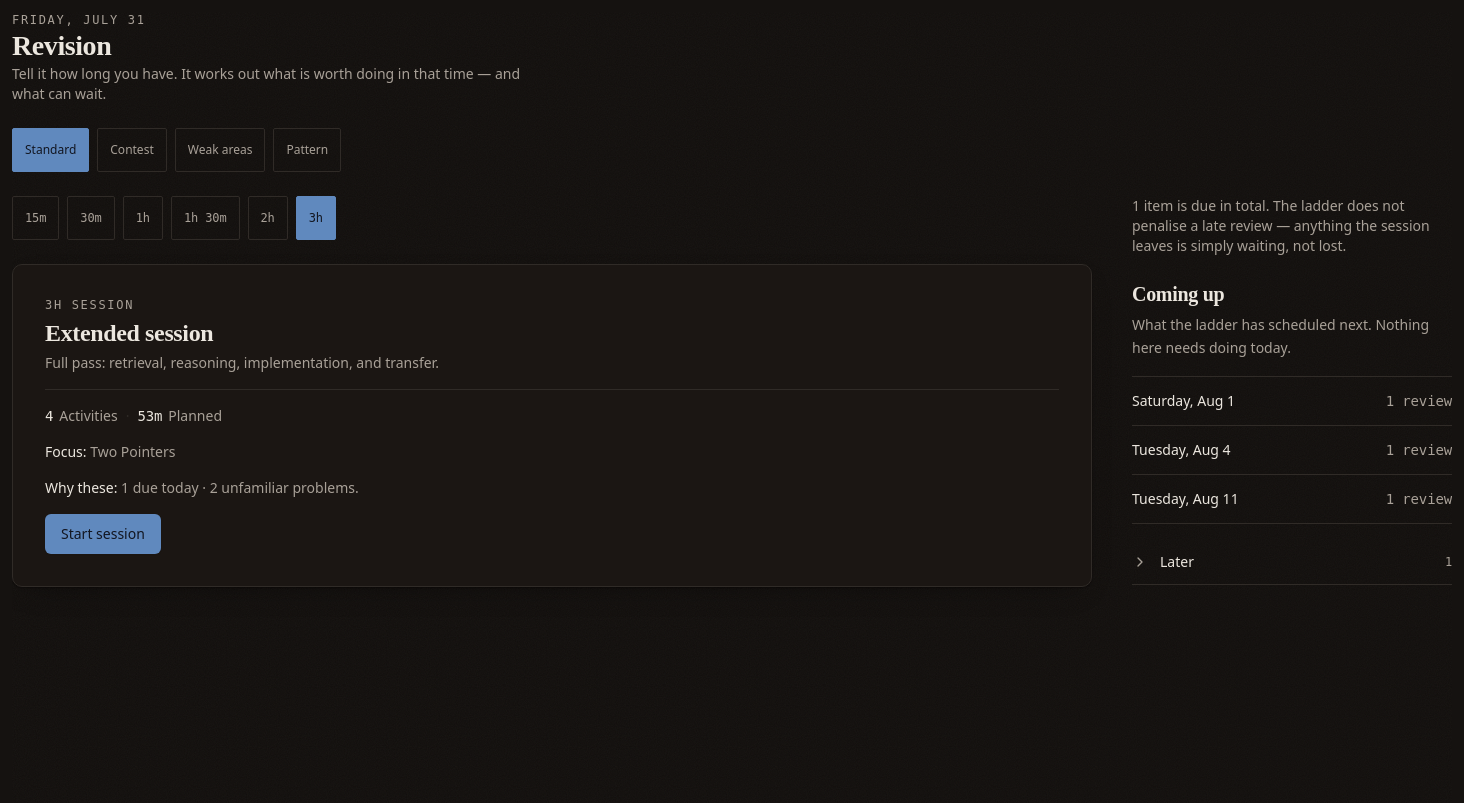
Test: RevisionPage — running a session › progress is reported in minutes as well as in activities
What coordinates should you click on to do the following:
click the button "Start session"
I would click on:
 (103, 534)
Its box is left=45, top=514, right=161, bottom=554.
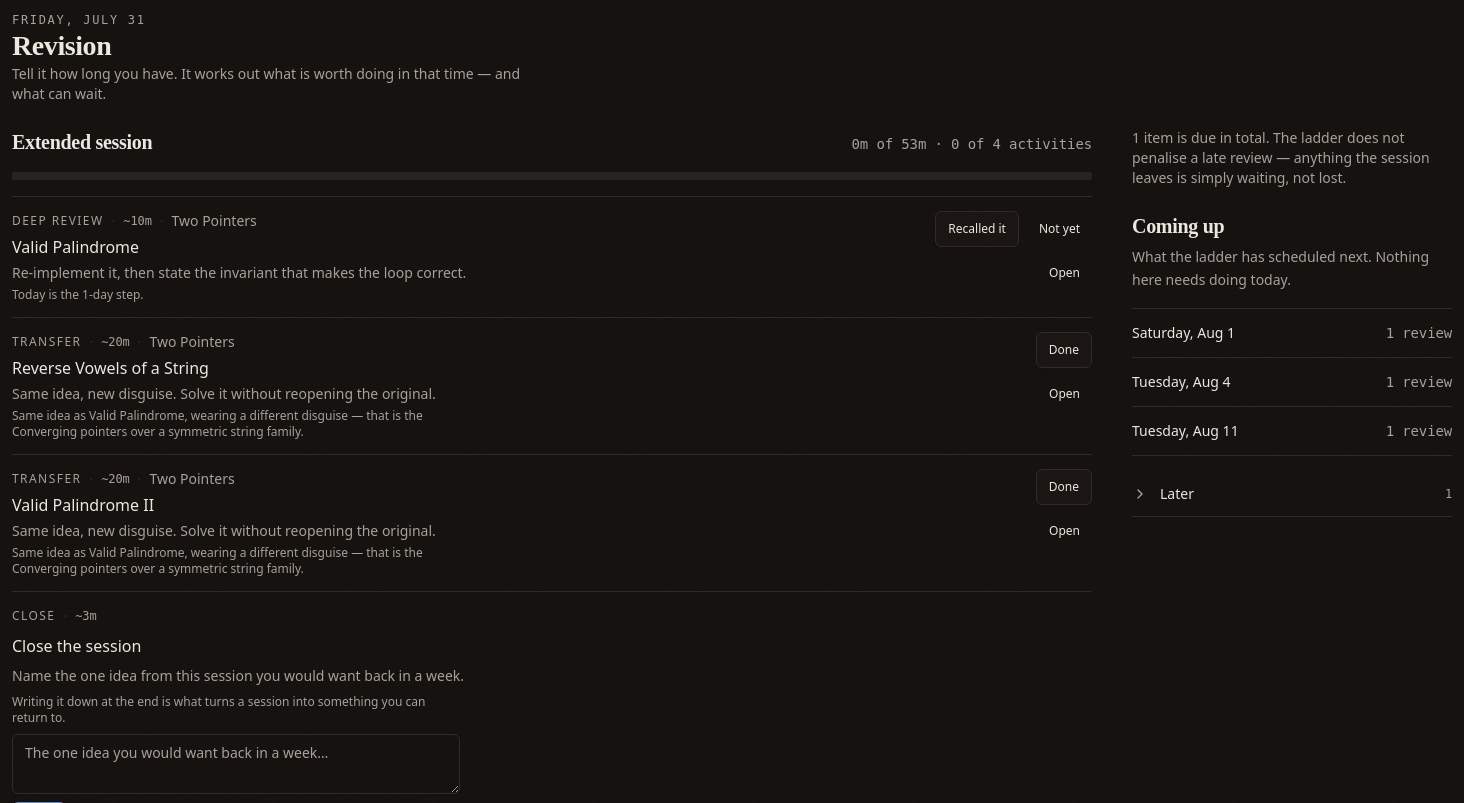
Expected: the text "0m of 53m · 0 of 4 activities" is shown, left=852, top=134, right=1092, bottom=154
